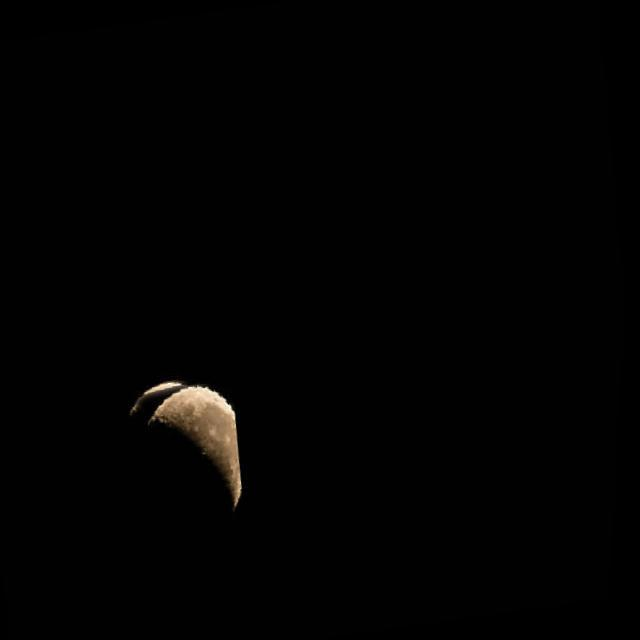moon: (112, 370, 260, 560)
